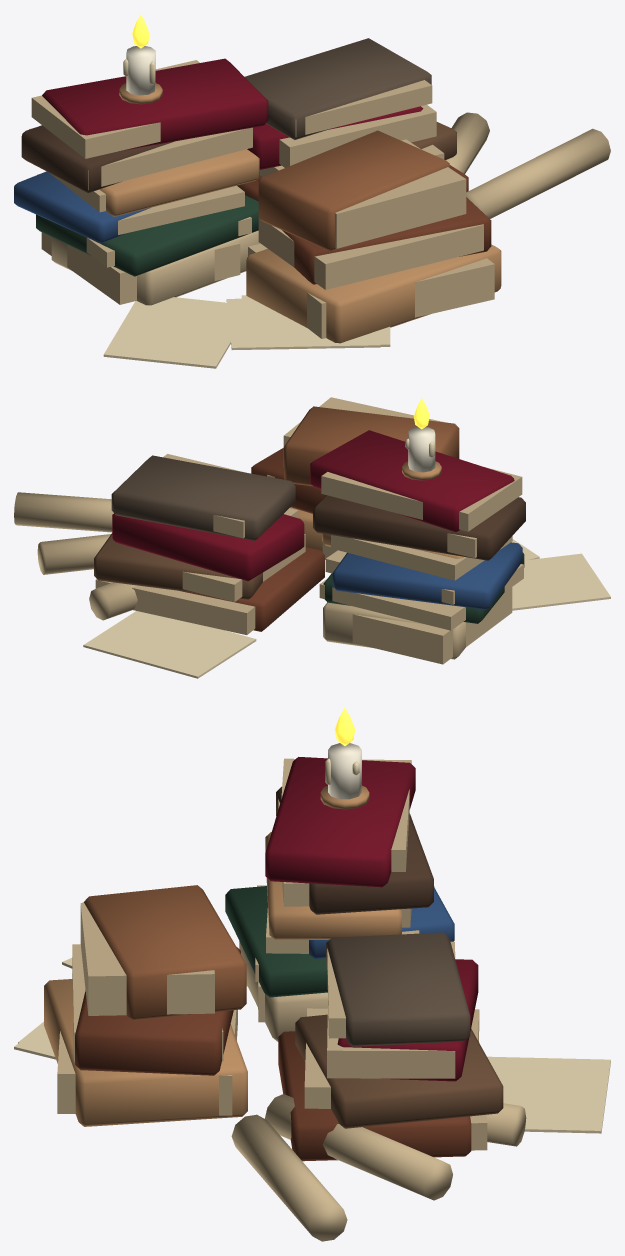
Rendered from book_stack.glb.
The picture shows the model from 3 angles, top to bottom: view 1: azimuth 30°, elevation 25°; view 2: azimuth 150°, elevation 25°; view 3: azimuth 270°, elevation 25°; orthographic projection. The views are drawn at different scales.
Visible parts, largest first — view 1: book_stack; view 2: book_stack; view 3: book_stack.
Part boxes in pixels (x1=…): book_stack: x1=14, y1=14, x2=610, y2=368; book_stack: x1=14, y1=397, x2=610, y2=678; book_stack: x1=14, y1=708, x2=610, y2=1241.
Bounding box in the file's own units: 0.8028 × 0.3361 × 0.6356.
